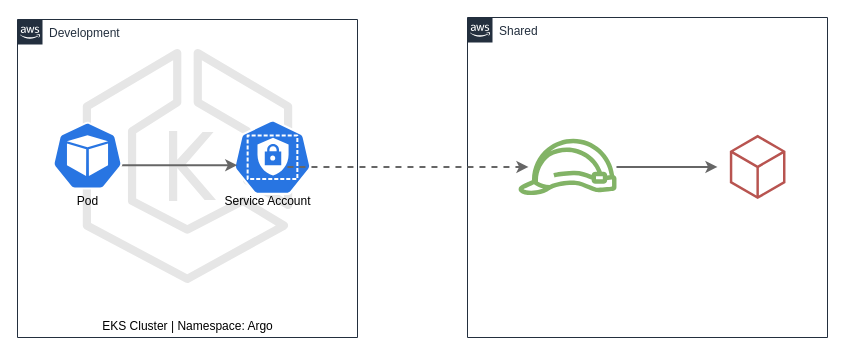
The diagram is 845 pixels wide and 355 high, and some of its shapes have lost their labels. Here are the shapes that lost their labels. From the top down, the centre of each, then its label:
(x=567, y=166): IAM Role
(x=757, y=166): AWS Resources
